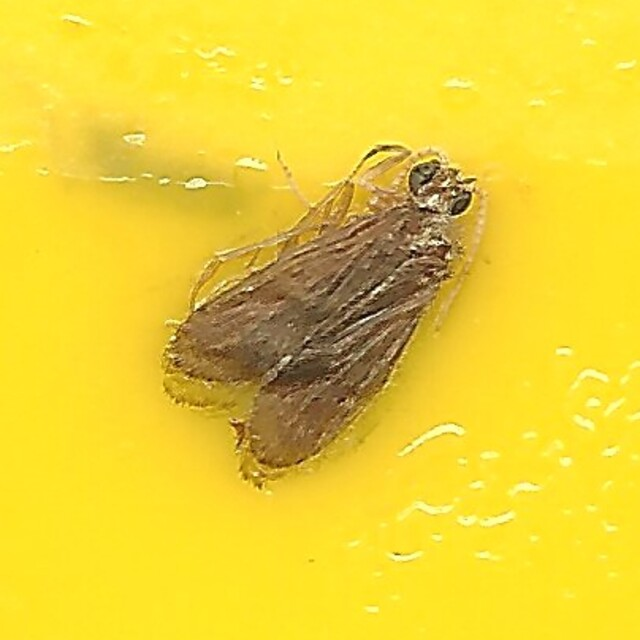Trichoptera: (158, 146, 482, 494)
